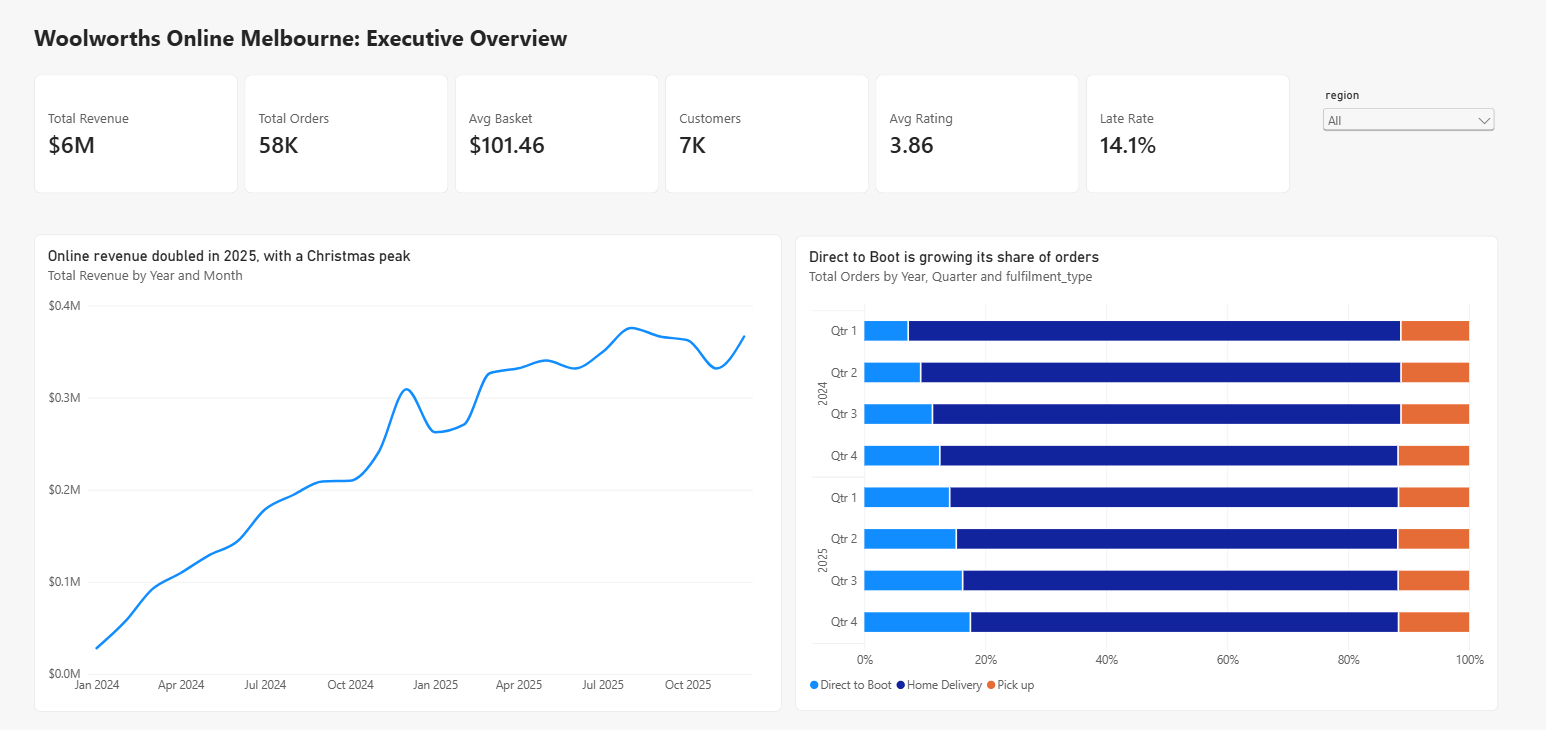

The dashboard page shown, as its layout file describes it:
{"tool":"powerbi","page":{"name":"Executive Overview","canvas":[1920,1080],"ordinal":0},"visuals":[{"type":"cardVisual","fields":{"Data":["vw_orders.Total Revenue","vw_orders.Total Orders","vw_orders.Avg Basket","vw_orders.Customers","vw_orders.Avg Rating","vw_orders.Late Rate"]},"box":[54,100,1522,144],"z":0},{"type":"lineChart","title":"Online revenue doubled in 2025, with a Christmas peak","fields":{"Category":["vw_orders.order_date.Variation.Date Hierarchy.Year","vw_orders.order_date.Variation.Date Hierarchy.Month"],"Y":["vw_orders.Total Revenue"]},"box":[54,294,906,578],"z":1000},{"type":"hundredPercentStackedBarChart","title":"Direct to Boot is growing its share of orders","fields":{"Category":["vw_orders.order_date.Variation.Date Hierarchy.Year","vw_orders.order_date.Variation.Date Hierarchy.Quarter"],"Series":["vw_orders.fulfilment_type"],"Y":["vw_orders.Total Orders"]},"box":[978,296,852,576],"z":2000},{"type":"slicer","fields":{"Values":["vw_orders.region"]},"box":[1612,116,218,180],"z":3000},{"type":"textbox","box":[54,0,1522,82],"z":4000}]}

Visuals, with their boxes on the page's 1920x1080 design canvas (x1, y1, x2, y2). These are canvas units, not pixel positions in the 1546x730 screenshot, which may show the page scaled, cropped or inside an application window:
cardVisual - vw_orders.Total Revenue x vw_orders.Total Orders: bbox=(54, 100, 1576, 244)
"Online revenue doubled in 2025, with a Christmas peak" lineChart: bbox=(54, 294, 960, 872)
"Direct to Boot is growing its share of orders" hundredPercentStackedBarChart: bbox=(978, 296, 1830, 872)
slicer - vw_orders.region: bbox=(1612, 116, 1830, 296)
textbox: bbox=(54, 0, 1576, 82)
